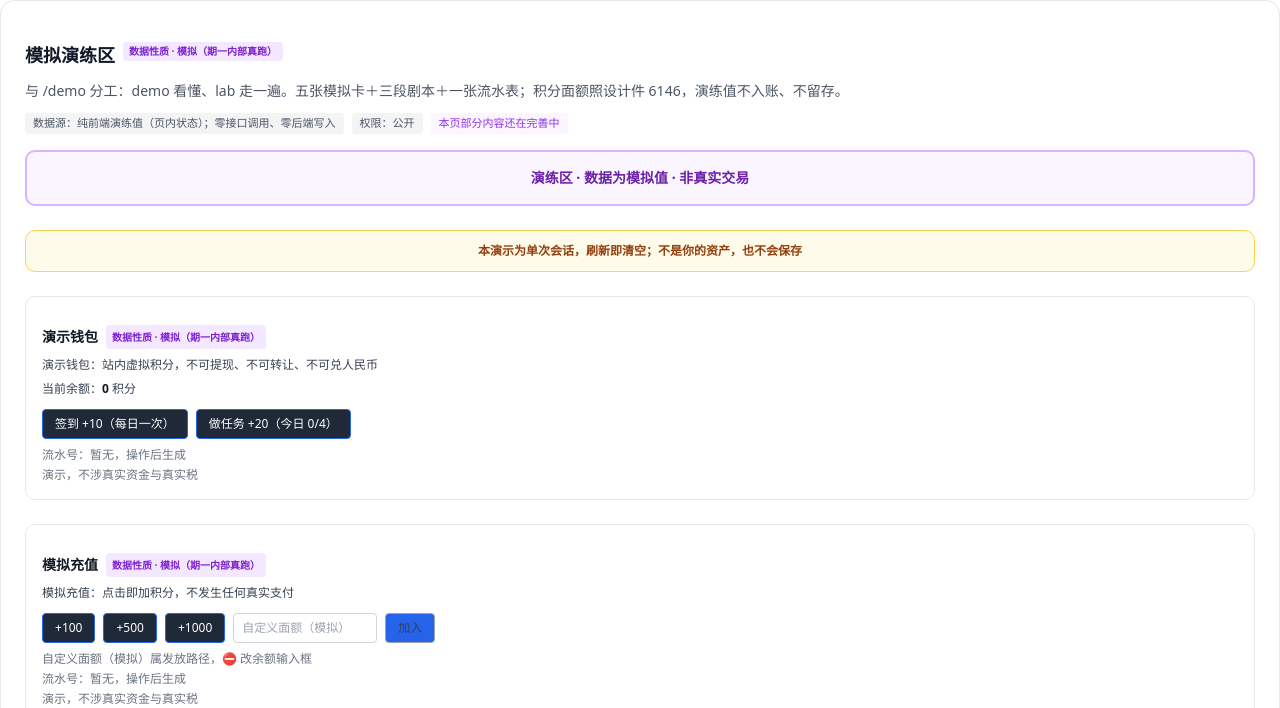
B26 演练区：发放入口（签到／任务／充值） › 做任务 +20／件，每日 4 件上限
This screenshot has width=1280, height=708.
Click the button with test id "lab-task".
click(273, 424)  # box [196,408,351,438]
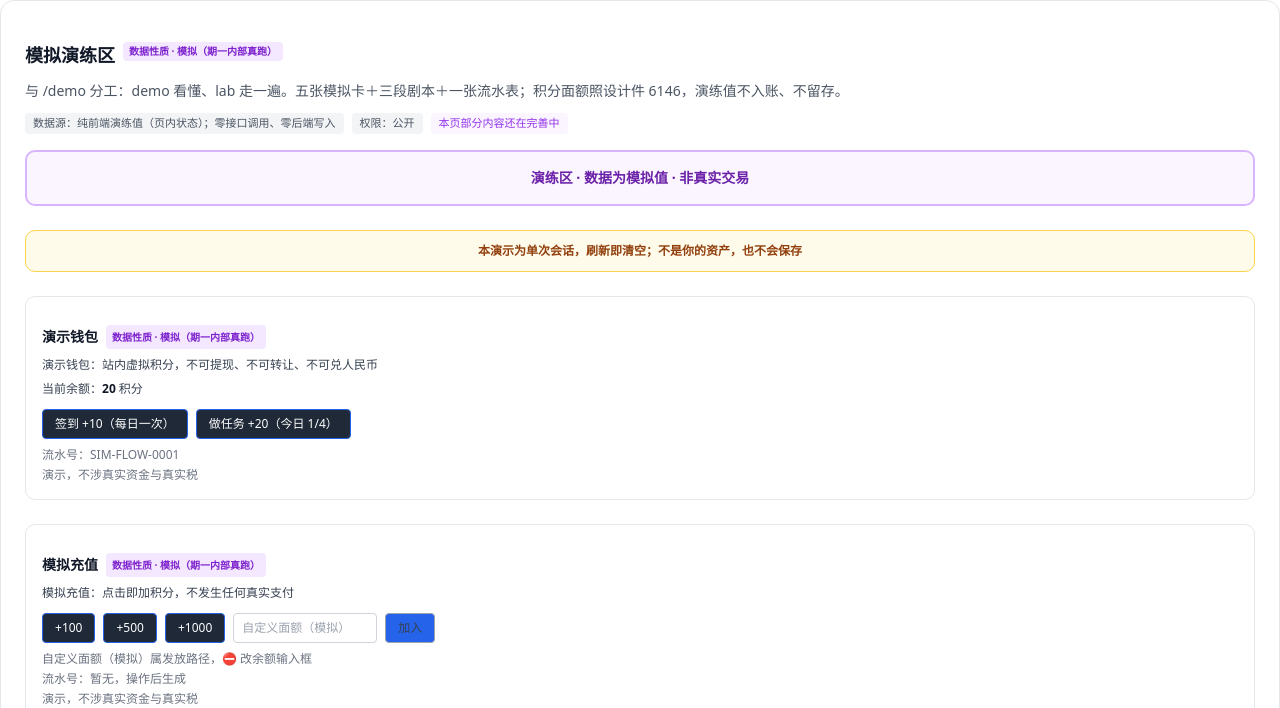
Click the button with test id "lab-task".
click(273, 424)  # box [196,408,351,438]
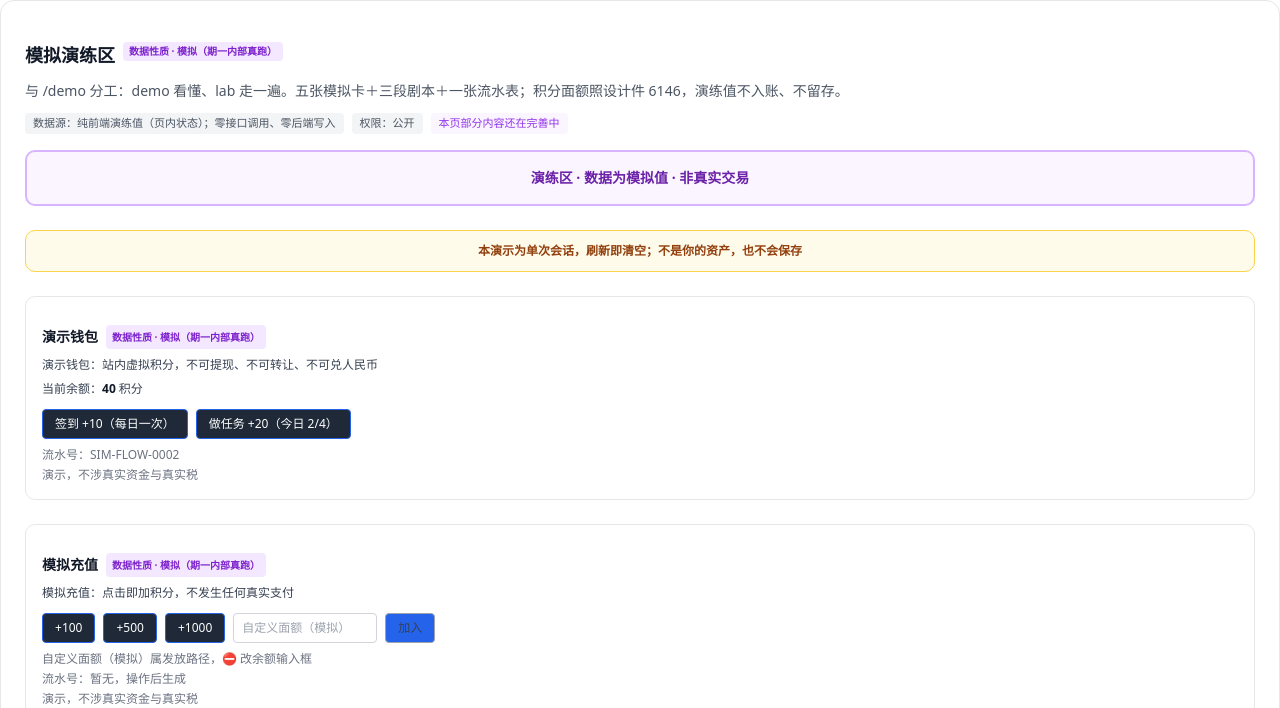
Click the button with test id "lab-task".
click(273, 424)  # box [196,408,351,438]
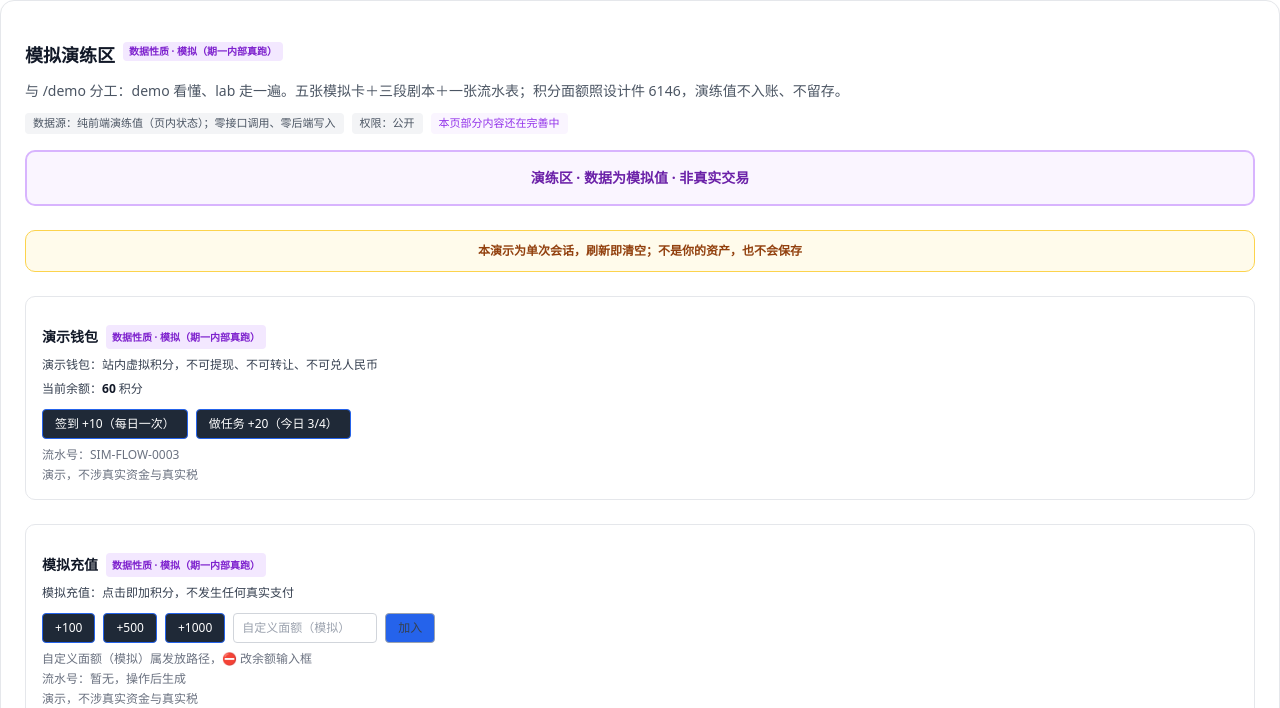
Click the button with test id "lab-task".
click(273, 424)  # box [196,408,351,438]
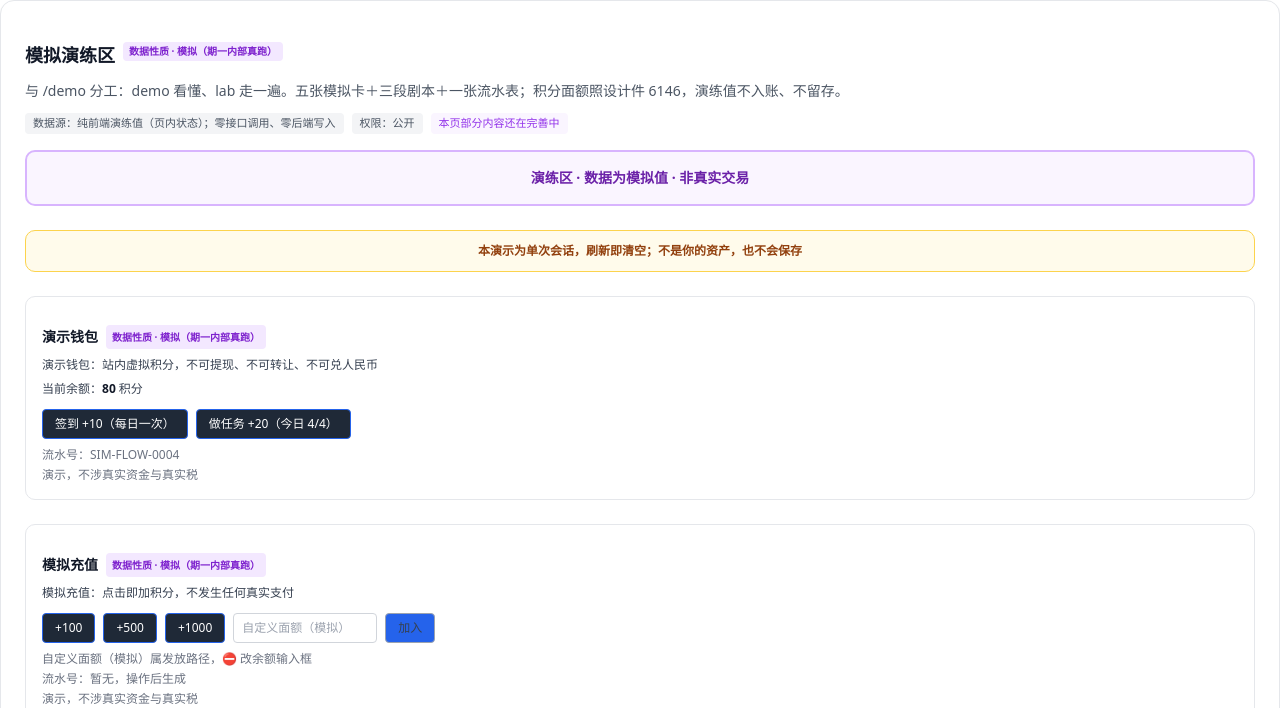
Check: the text with test id "lab-balance" reads "80", box [102,380,116,396]
Click the button with test id "lab-task".
click(273, 424)  # box [196,408,351,438]
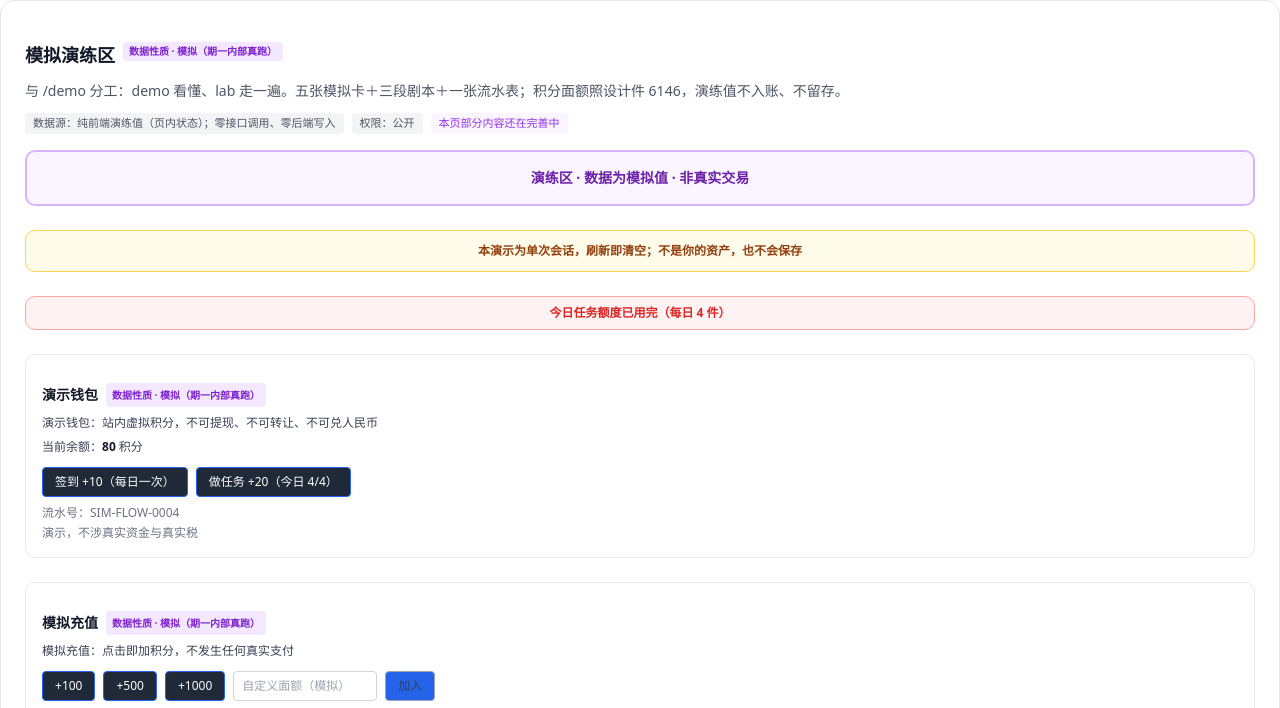
Check: the text with test id "lab-balance" reads "80", box [102,438,116,454]
Check: the text with test id "lab-block-msg" shows "每日 4 件", box [549,304,730,320]
